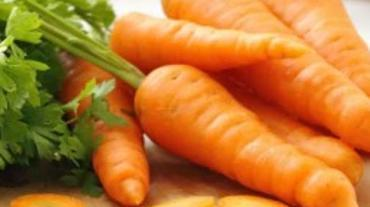carrot: (86, 9, 370, 207)
